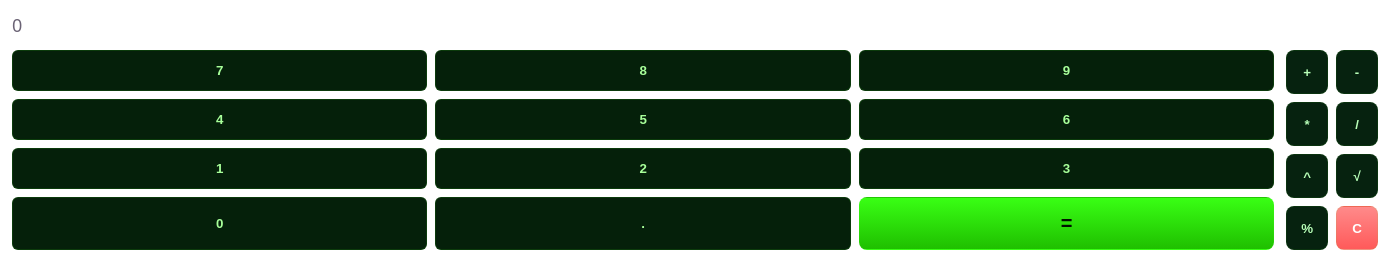
TraditionalCalculator › handles basic input and addition
This screenshot has width=1390, height=267.
Click the button "1". click: x=220, y=169
box: left=12, top=148, right=427, bottom=189
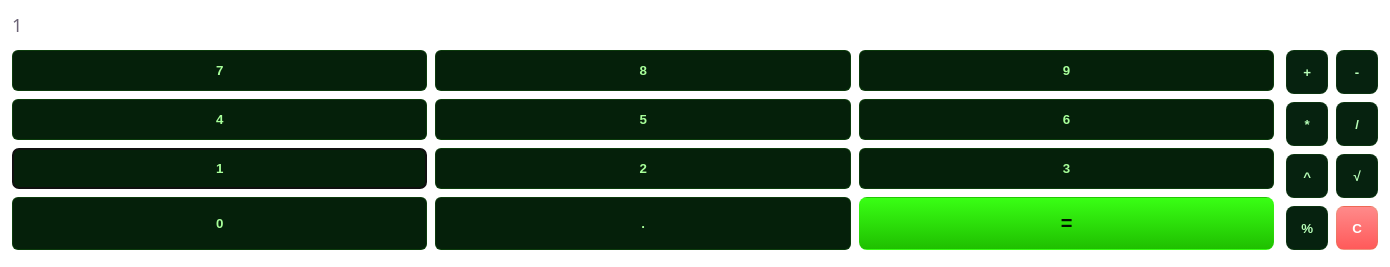
Click the button "+". click: x=1307, y=72
box: left=1286, top=50, right=1328, bottom=94
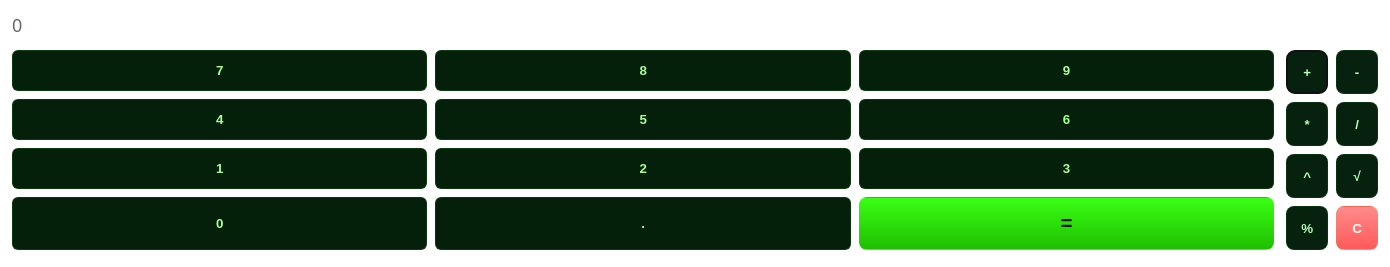
Click the button "2". click: x=643, y=169
box: left=435, top=148, right=851, bottom=189
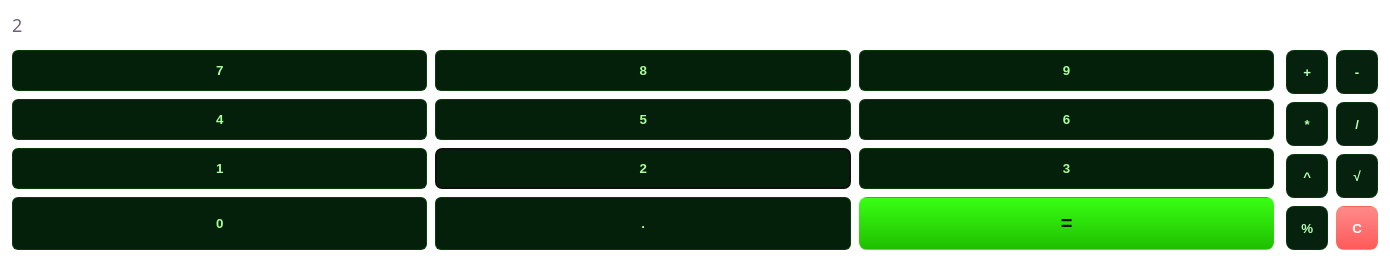
Click the button "=". click: x=1066, y=224
box: left=859, top=197, right=1274, bottom=250
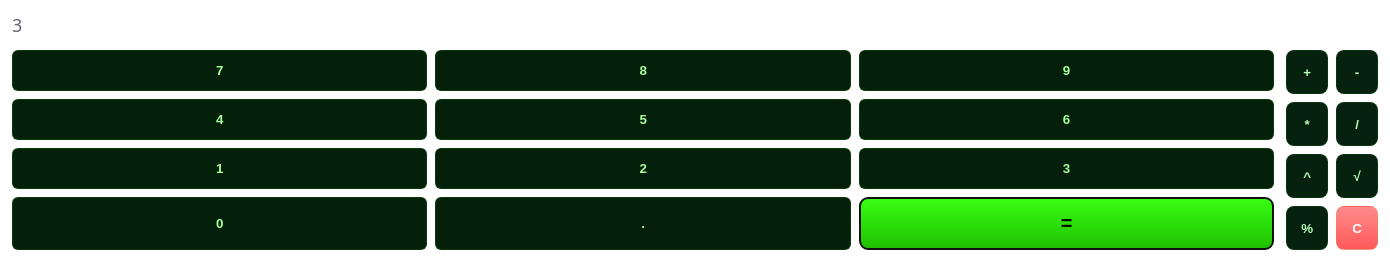
Check: the message reads "3", box left=12, top=13, right=22, bottom=37
